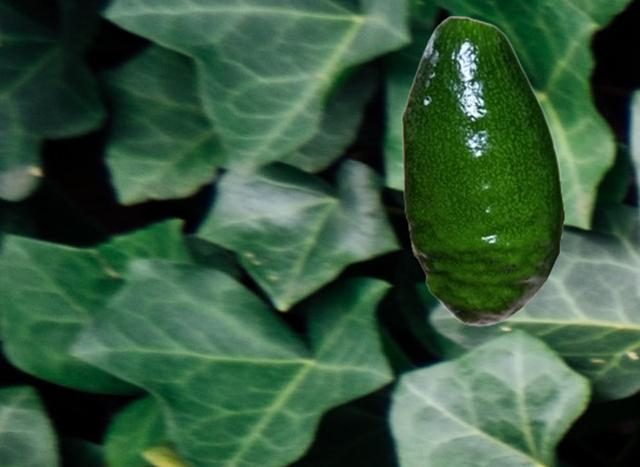avocado: (401, 15, 564, 325)
